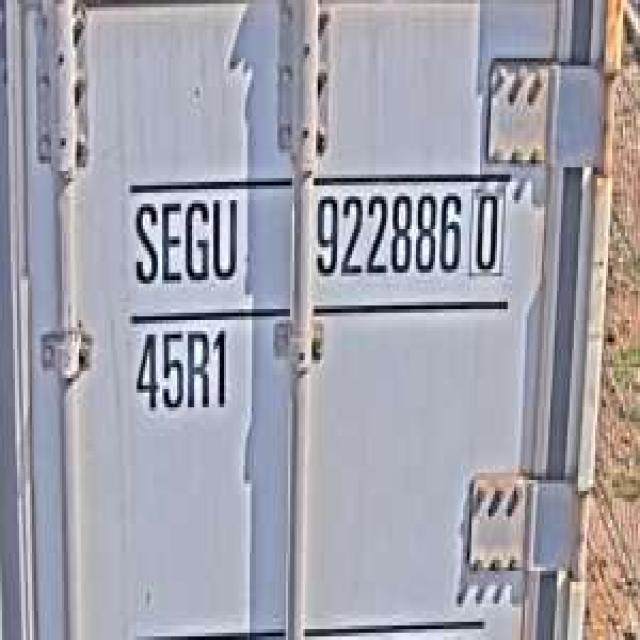dv: (467, 182, 508, 280)
owner: (126, 189, 241, 295)
serial: (309, 178, 463, 291)
size: (128, 320, 235, 422)
